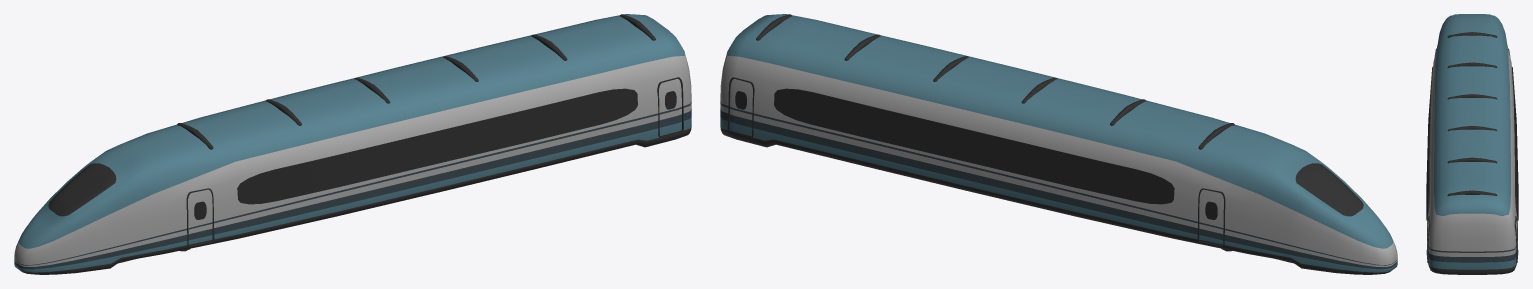
Rendered from High Speed Front.glb.
The picture shows the model from 3 angles, left to right: view 1: azimuth 30°, elevation 25°; view 2: azimuth 150°, elevation 25°; view 3: azimuth 270°, elevation 25°; orthographic projection. The views are drawn at different scales.
Parts seen in each view (by area): view 1: HighspeedTrain_Front; view 2: HighspeedTrain_Front; view 3: HighspeedTrain_Front.
Boxes of the visible parts, x1,y1,x2,y2 form: HighspeedTrain_Front: [14, 14, 691, 274]; HighspeedTrain_Front: [720, 14, 1397, 274]; HighspeedTrain_Front: [1426, 14, 1518, 274].
Size of the model in its own units: 12.16 by 1.9 by 2.03.
